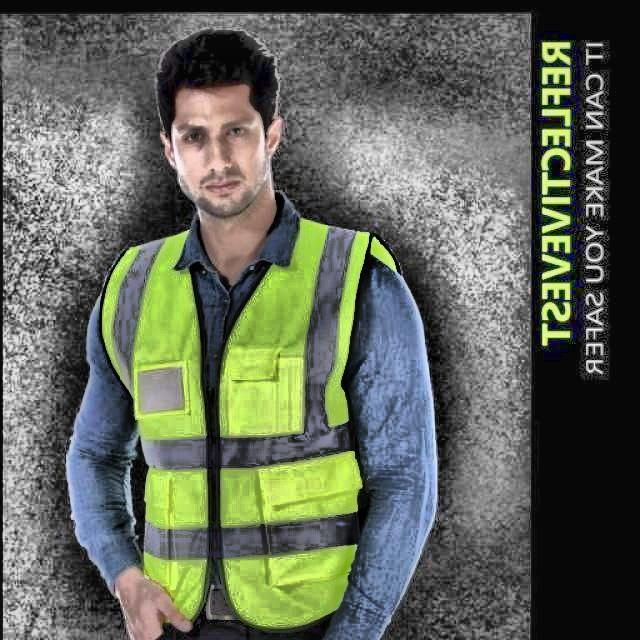safety_jacket: (112, 253, 354, 612)
